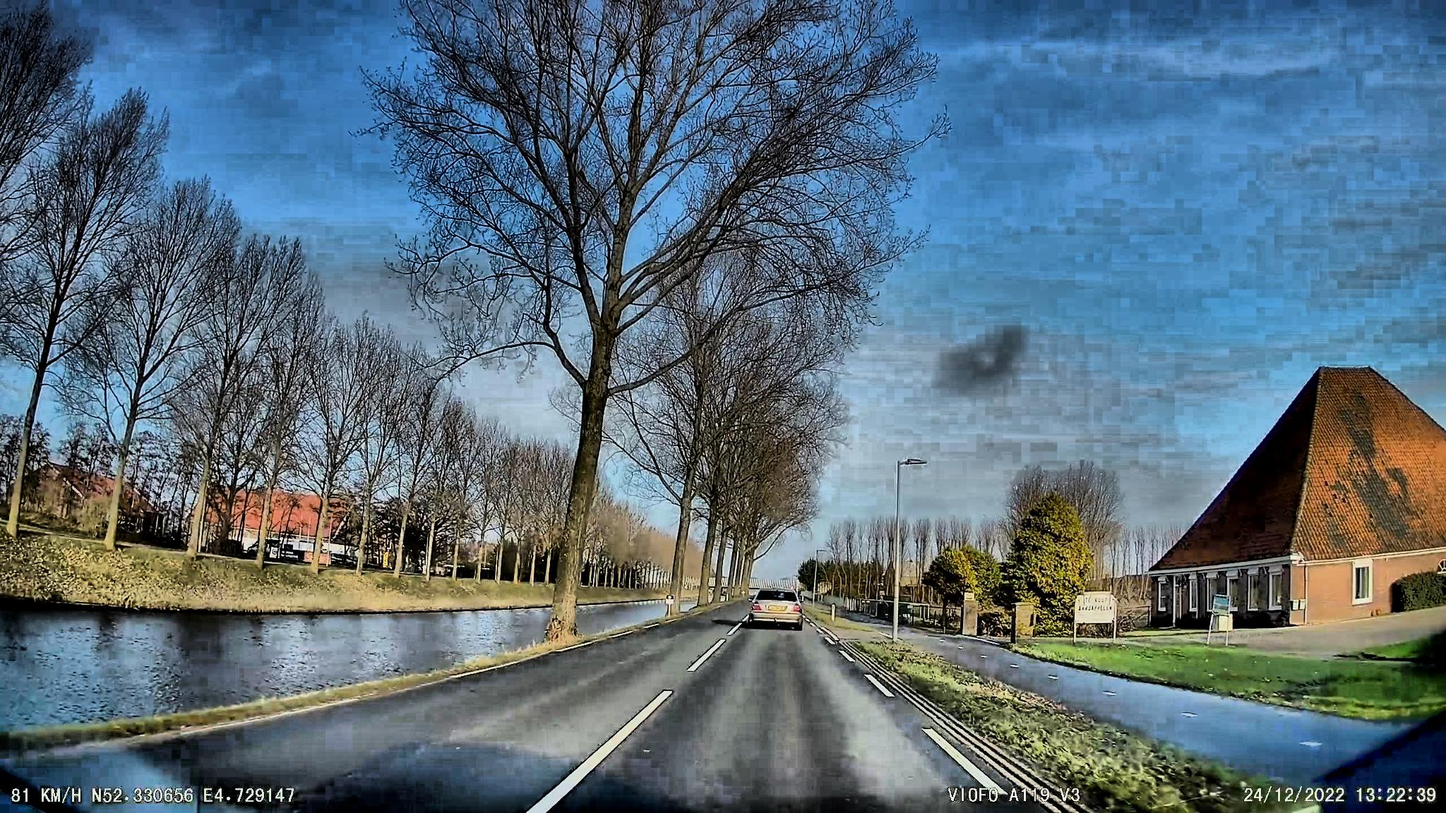Roads: (0, 618, 1090, 813)
